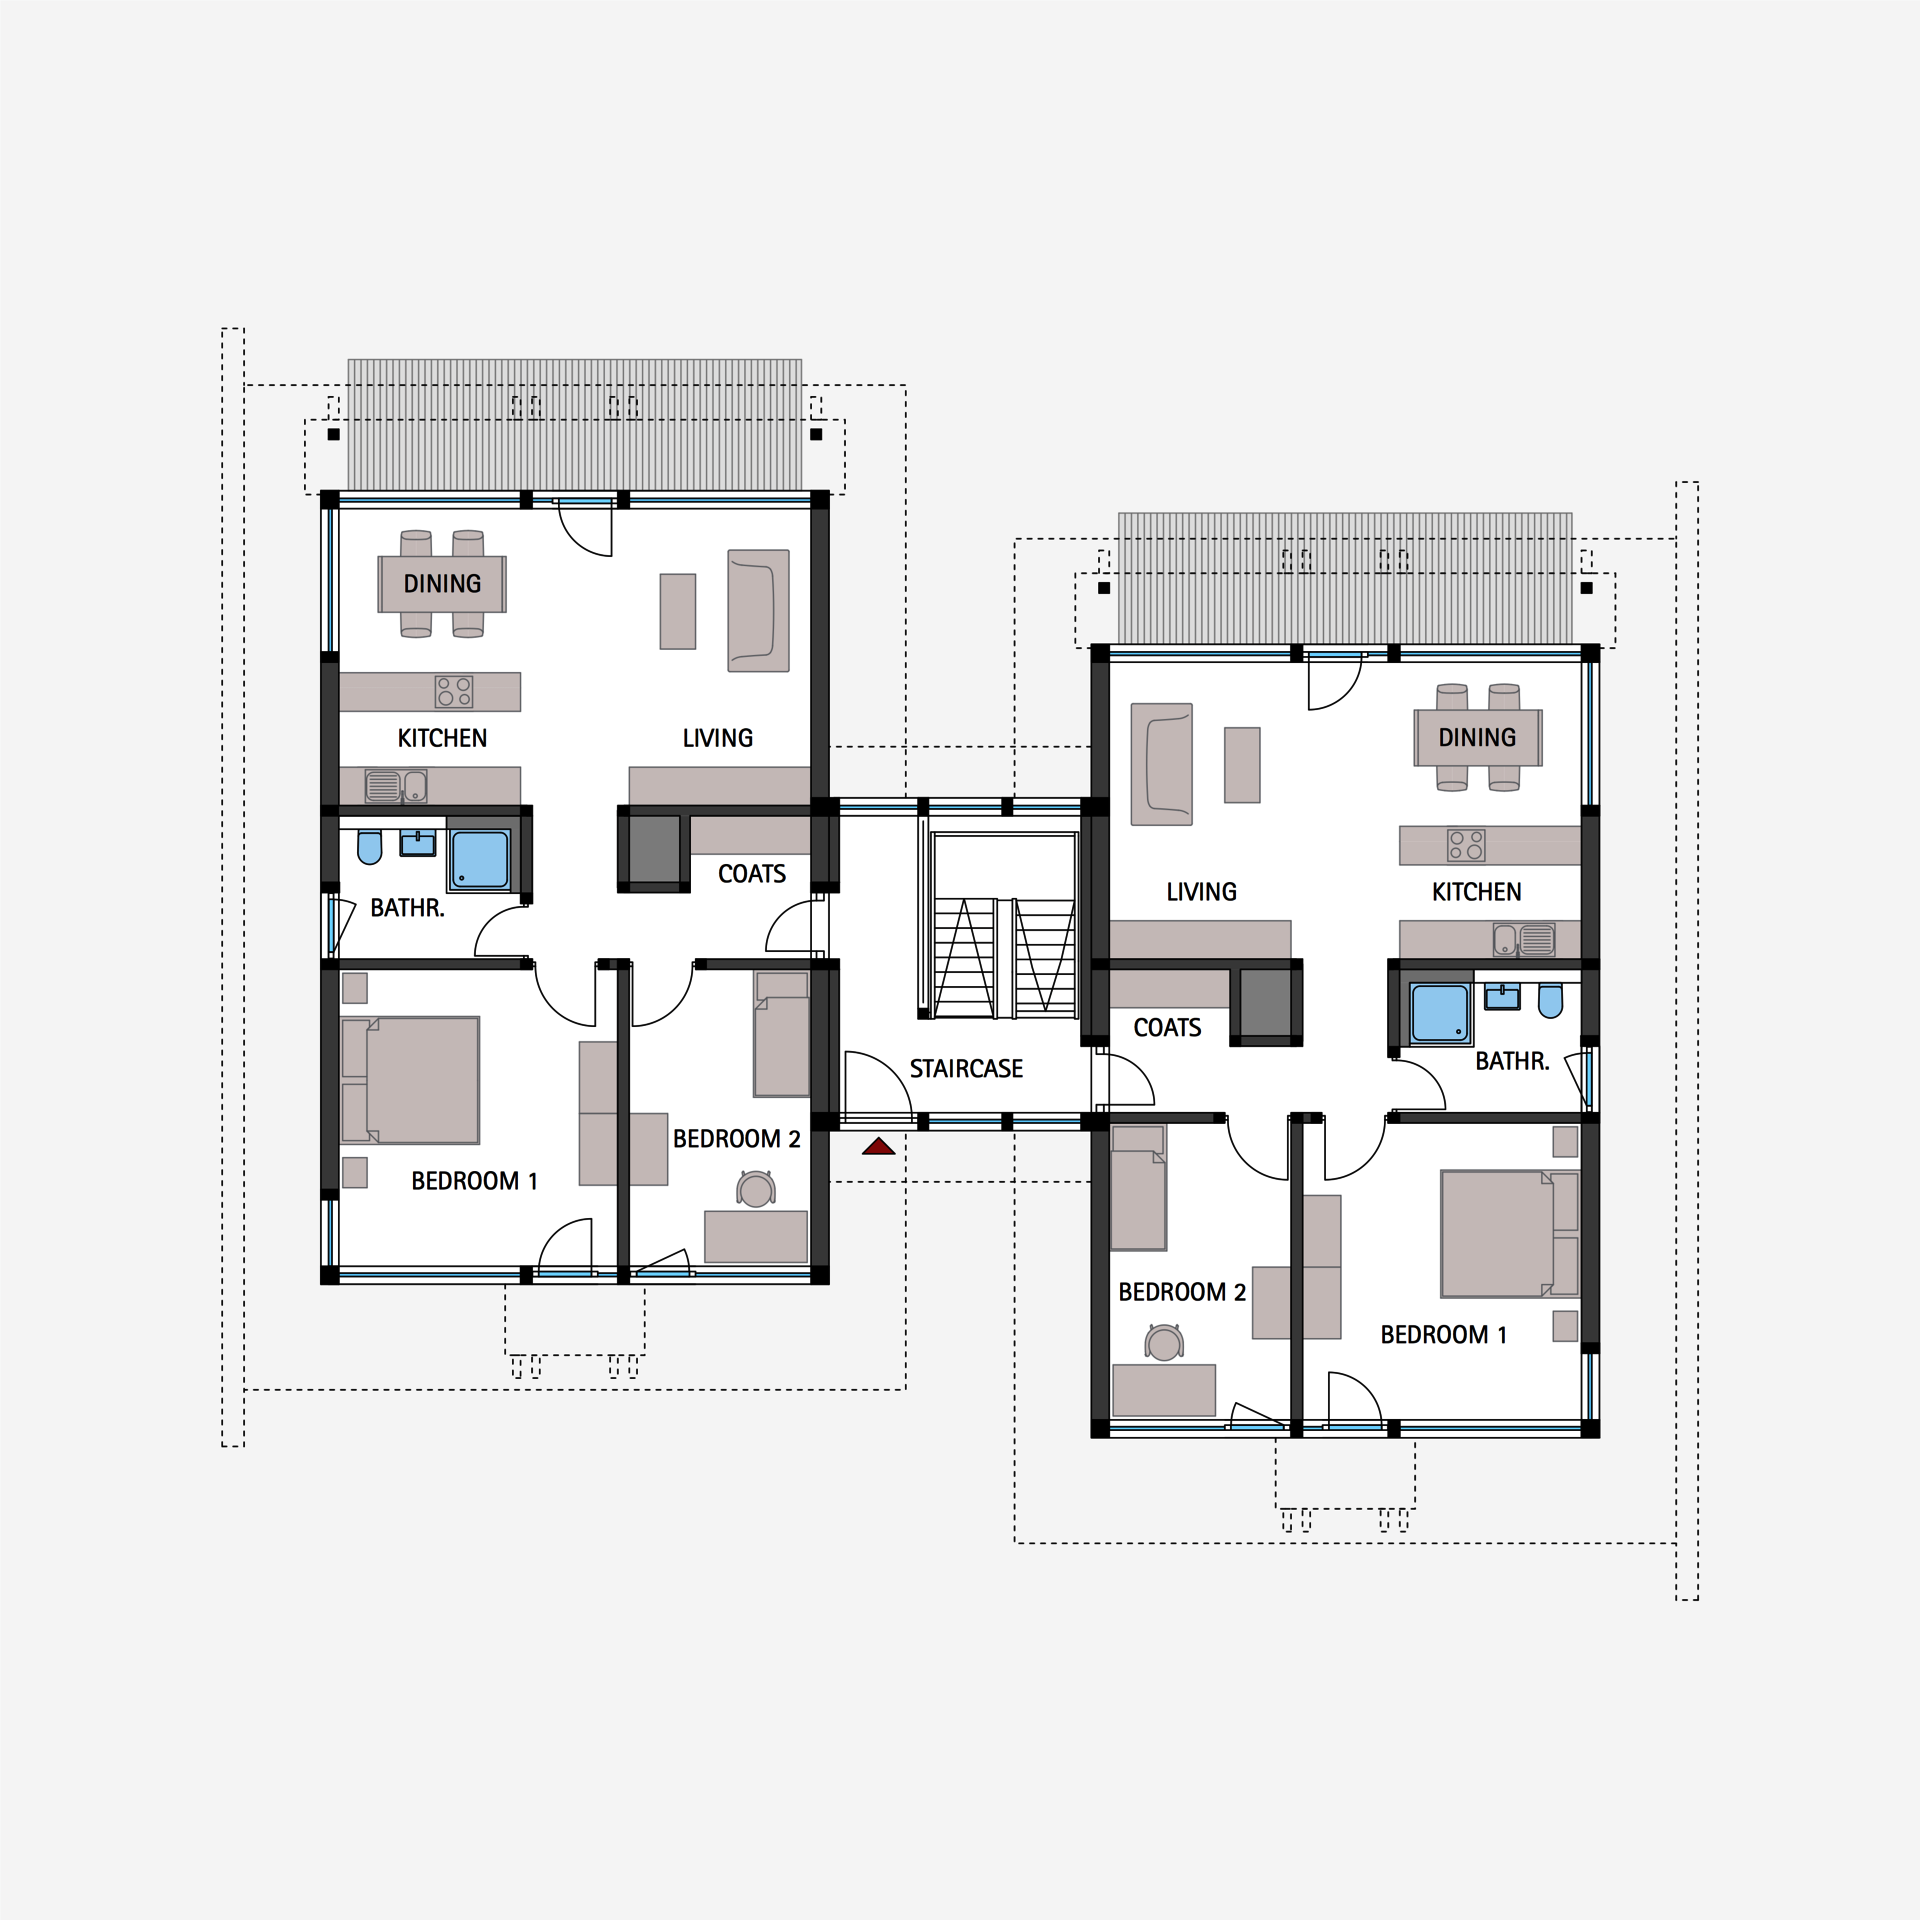door: (842, 1050, 907, 1111), (629, 971, 695, 1032), (533, 971, 598, 1032), (1322, 1129, 1389, 1185), (1225, 1129, 1291, 1185), (469, 900, 527, 956), (1306, 666, 1371, 716), (556, 512, 617, 563), (1326, 1368, 1391, 1415), (1394, 1057, 1451, 1111), (1109, 1051, 1157, 1109), (763, 898, 811, 956), (540, 1217, 594, 1261)
